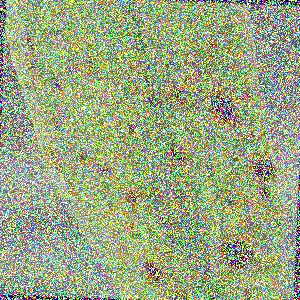Bacterial_Leaf_Blight: (212, 237, 263, 273), (206, 84, 242, 128), (138, 255, 168, 289), (164, 143, 193, 172), (164, 78, 190, 106), (220, 186, 243, 215), (251, 157, 278, 181), (17, 25, 40, 53), (45, 68, 68, 93), (45, 142, 62, 174), (74, 144, 93, 167), (93, 159, 114, 179), (124, 187, 142, 209), (84, 55, 100, 79), (256, 186, 274, 204), (177, 185, 192, 205), (242, 127, 260, 143), (49, 113, 62, 134), (241, 285, 259, 300), (111, 238, 127, 254), (124, 121, 140, 136), (154, 214, 170, 229), (216, 22, 232, 37), (20, 79, 34, 95), (221, 36, 239, 48), (183, 124, 198, 138), (55, 6, 70, 19), (273, 215, 286, 230), (197, 66, 212, 79), (206, 37, 219, 52), (49, 24, 62, 39), (242, 88, 254, 104), (106, 265, 120, 278), (168, 44, 183, 56), (168, 288, 183, 300), (148, 96, 161, 109), (182, 74, 197, 85), (204, 165, 217, 177), (133, 44, 148, 54), (143, 76, 155, 88), (63, 198, 75, 210), (262, 130, 271, 146), (159, 123, 172, 134), (28, 60, 39, 73), (133, 232, 145, 243), (71, 164, 84, 174), (73, 62, 84, 73), (57, 109, 68, 120), (121, 101, 133, 111), (163, 60, 178, 68), (65, 23, 77, 33), (165, 269, 177, 279), (106, 98, 117, 108), (207, 18, 218, 28), (118, 263, 129, 273), (115, 284, 127, 293), (150, 202, 162, 211), (202, 270, 214, 279), (210, 294, 228, 300), (201, 3, 211, 13), (87, 169, 98, 178), (125, 161, 134, 172), (99, 51, 108, 61), (126, 223, 136, 232), (228, 152, 238, 161), (150, 251, 160, 260), (106, 32, 116, 41), (257, 116, 268, 124), (185, 58, 194, 67), (220, 144, 230, 152), (112, 229, 122, 237), (161, 249, 170, 257), (269, 261, 278, 269), (180, 293, 190, 300), (103, 214, 111, 222), (41, 30, 49, 38), (20, 64, 27, 73), (99, 98, 108, 105), (72, 52, 79, 60), (236, 96, 244, 103), (70, 121, 77, 129), (231, 227, 237, 233), (240, 222, 246, 228), (255, 228, 261, 234)
